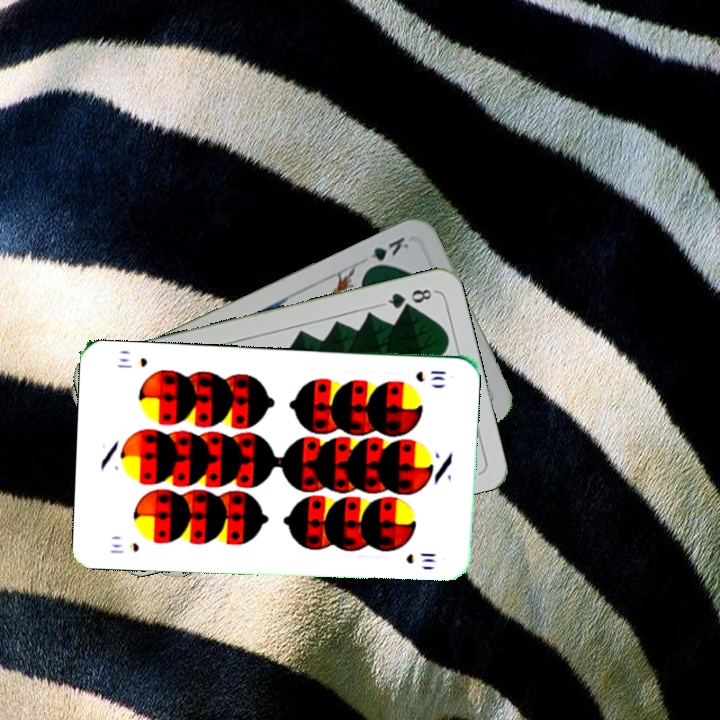G8: (379, 285, 437, 312)
GK: (361, 232, 412, 273)
S10: (411, 367, 449, 384), (106, 539, 141, 556)
